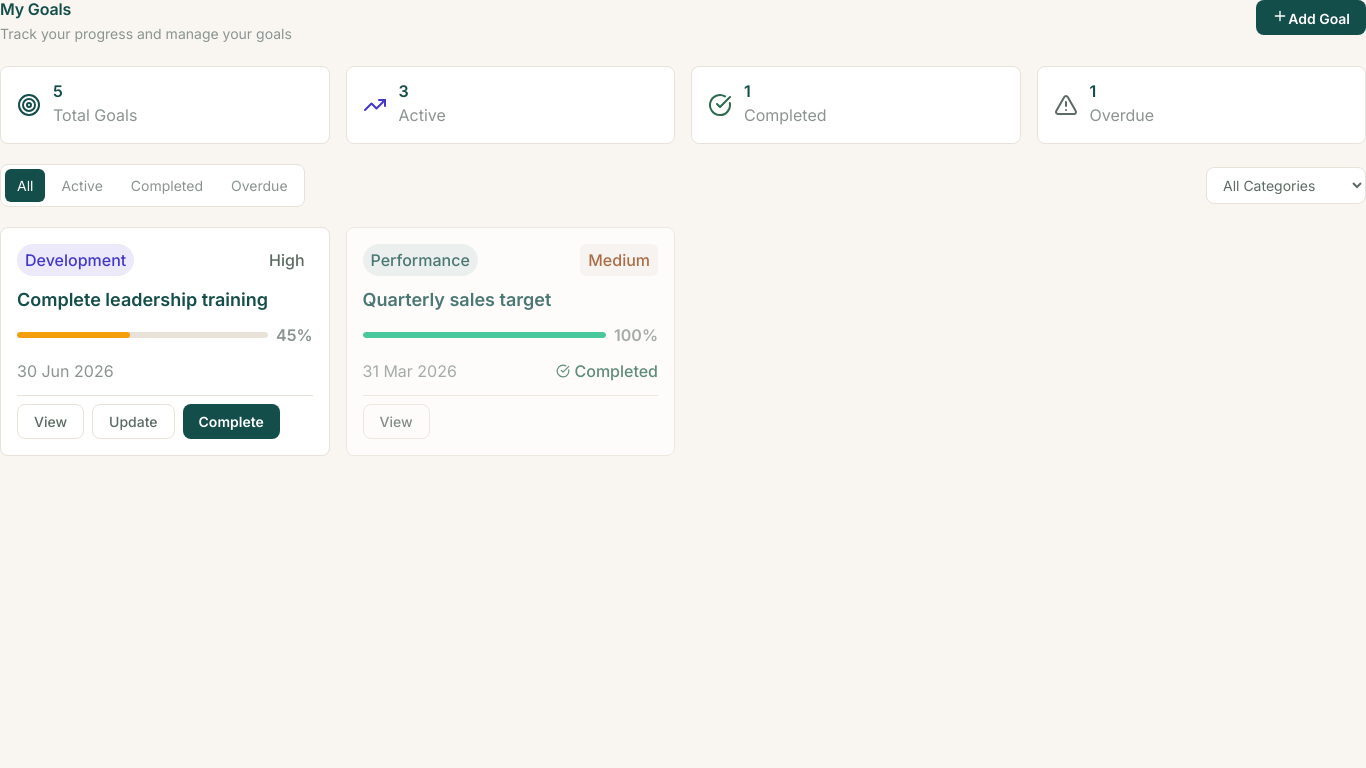
Scenario: GoalsDashboardPage › opens create goal form when Add Goal is clicked
Expected: the heading "Complete leadership training" is shown, top-left (17, 289), bottom-right (268, 310)
Note: Click the Add Goal button
Click the button with aria-label "Create new goal": (1311,18) top-left (1256, 0), bottom-right (1365, 35)
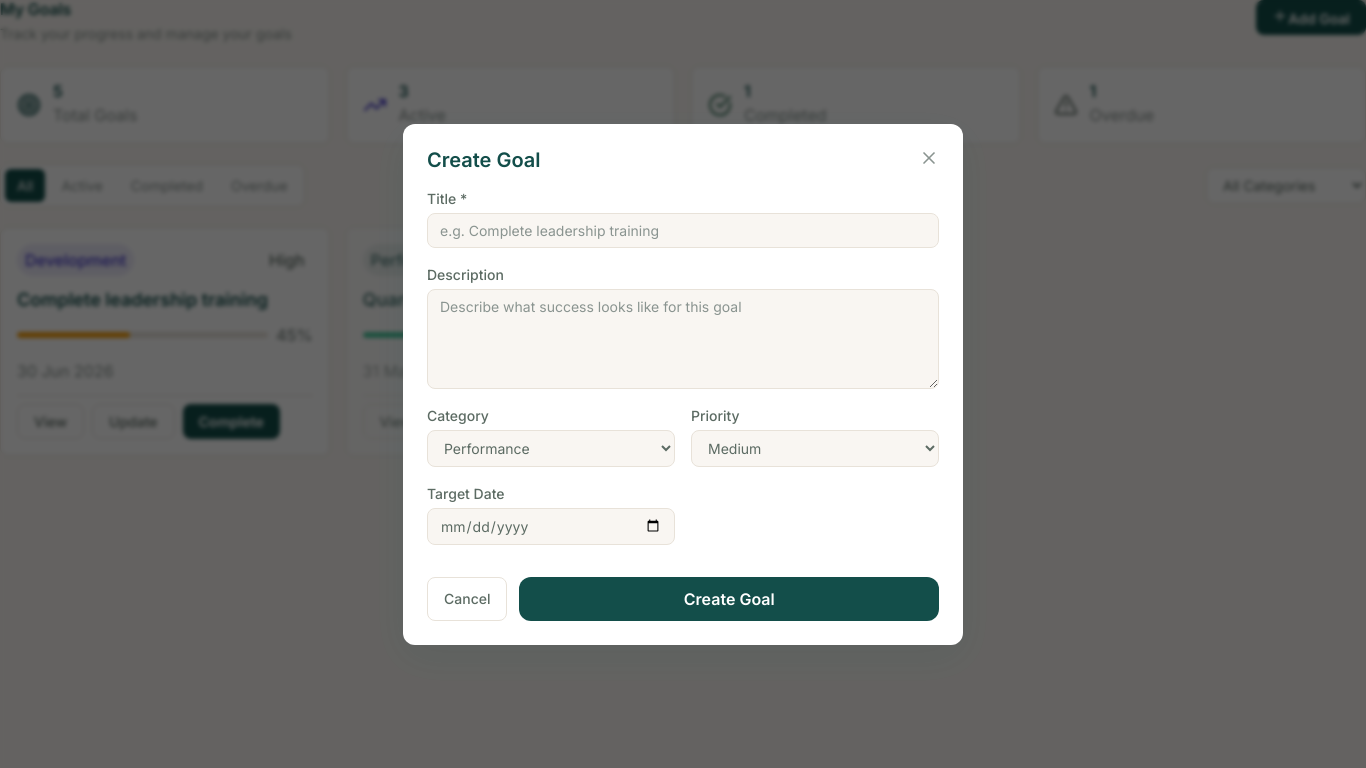
Result: the dialog "Create Goal" is shown
